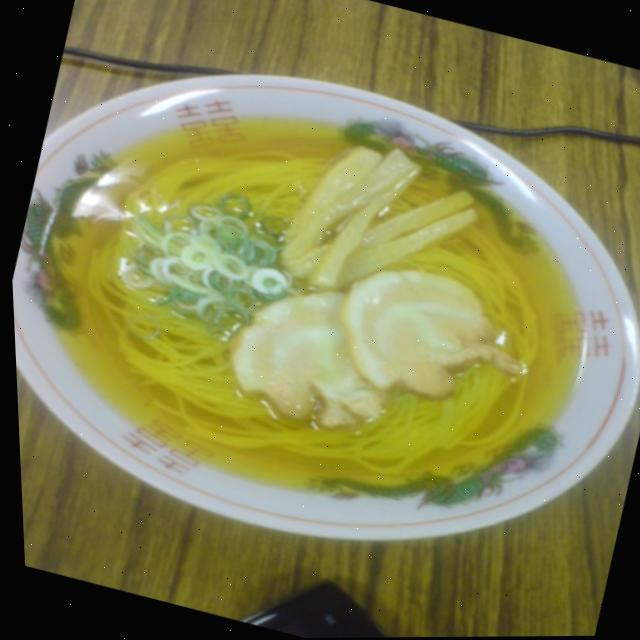面条主食: (27, 11, 640, 564)
